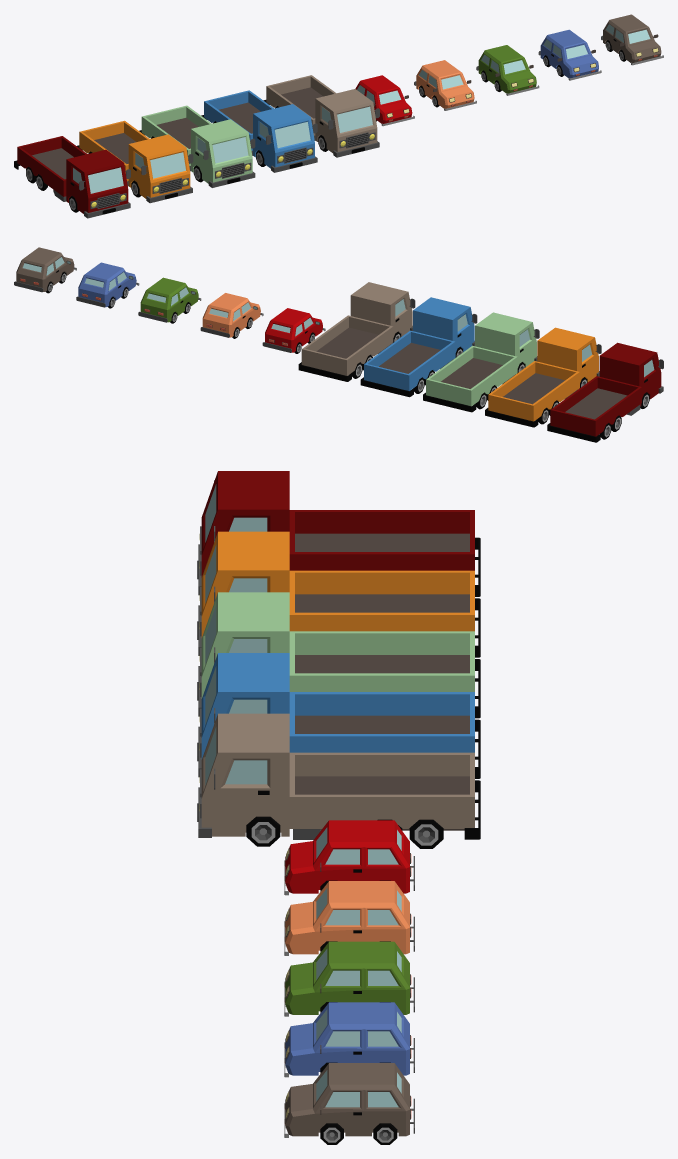
Rendered from Vehicles.fbx.
3 views of the same model, one above another, from view 1: azimuth 30°, elevation 25°; view 2: azimuth 150°, elevation 25°; view 3: azimuth 270°, elevation 25° (orthographic). The views are drawn at different scales.
Parts seen in each view (by area): view 1: Truck05, Truck03, Truck04, Truck01, Truck02, Car04, Car03, Car02, Car05, Car01; view 2: Truck05, Truck01, Truck04, Truck03, Truck02, Car04, Car02, Car03, Car05, Car01; view 3: Truck01, Truck04, Truck02, Truck05, Truck03, Car05, Car03, Car02, Car01, Car04.
Part boxes in pixels (<box>): Truck05: <box>14,136,130,218</box>; Truck03: <box>139,105,255,187</box>; Truck04: <box>77,120,193,203</box>; Truck01: <box>263,75,379,157</box>; Truck02: <box>201,90,317,172</box>; Car04: <box>538,29,601,80</box>; Car03: <box>476,45,539,95</box>; Car02: <box>414,60,476,110</box>; Car05: <box>601,14,663,65</box>; Car01: <box>355,75,414,126</box>; Truck05: <box>547,342,663,442</box>; Truck01: <box>298,282,415,381</box>; Truck04: <box>485,327,601,427</box>; Truck03: <box>423,312,539,412</box>; Truck02: <box>360,297,477,397</box>; Car04: <box>76,262,139,308</box>; Car02: <box>200,293,263,338</box>; Car03: <box>138,277,201,323</box>; Car05: <box>14,247,76,293</box>; Car01: <box>262,308,325,353</box>; Truck01: <box>197,713,480,848</box>; Truck04: <box>197,531,480,657</box>; Truck02: <box>197,653,480,778</box>; Truck05: <box>197,471,480,596</box>; Truck03: <box>197,592,480,718</box>; Car05: <box>284,1063,414,1144</box>; Car03: <box>284,941,414,1016</box>; Car02: <box>284,881,414,955</box>; Car01: <box>284,820,414,895</box>; Car04: <box>284,1002,414,1077</box>.
Bounding box in the file's own units: 3888 × 293 × 789.
